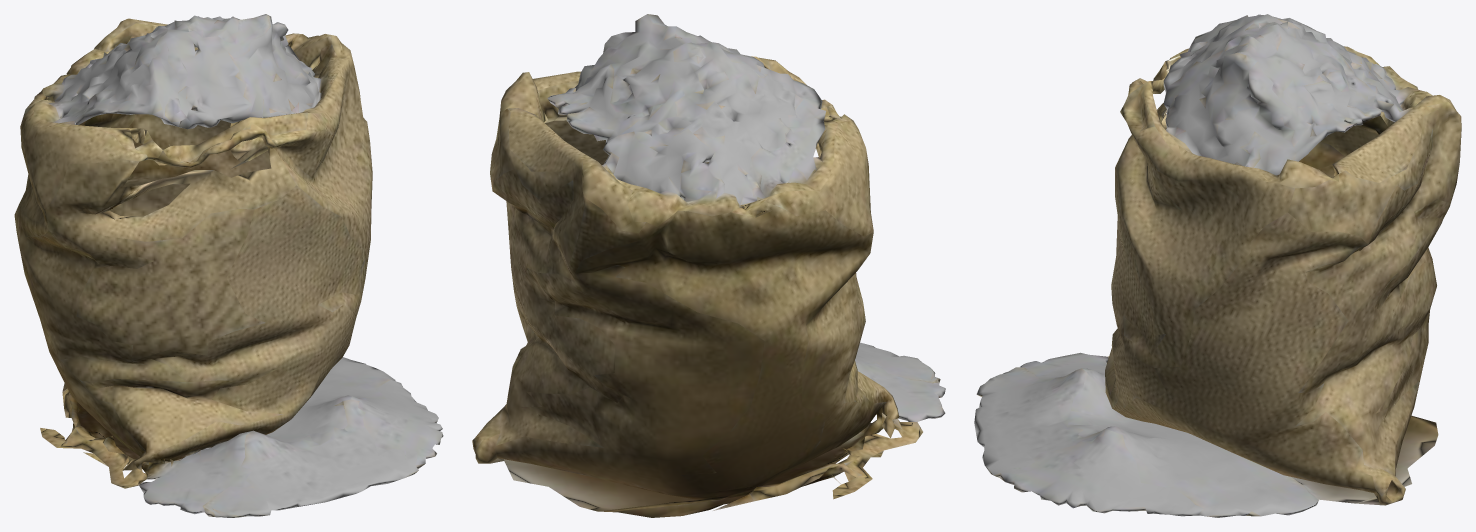
Rendered from rh_grit_sack.glb.
The picture shows the model from 3 angles, left to right: view 1: azimuth 30°, elevation 25°; view 2: azimuth 150°, elevation 25°; view 3: azimuth 270°, elevation 25°; orthographic projection. The views are drawn at different scales.
Parts seen in each view (by area): view 1: geometry_0; view 2: geometry_0; view 3: geometry_0.
Boxes of the visible parts, x1=… form: geometry_0: x1=14, y1=14, x2=443, y2=517; geometry_0: x1=472, y1=14, x2=945, y2=517; geometry_0: x1=974, y1=14, x2=1461, y2=517.
Bounding box in the file's own units: 0.811 × 0.9316 × 0.9775.
Materials: 1 (1 with a texture image).
